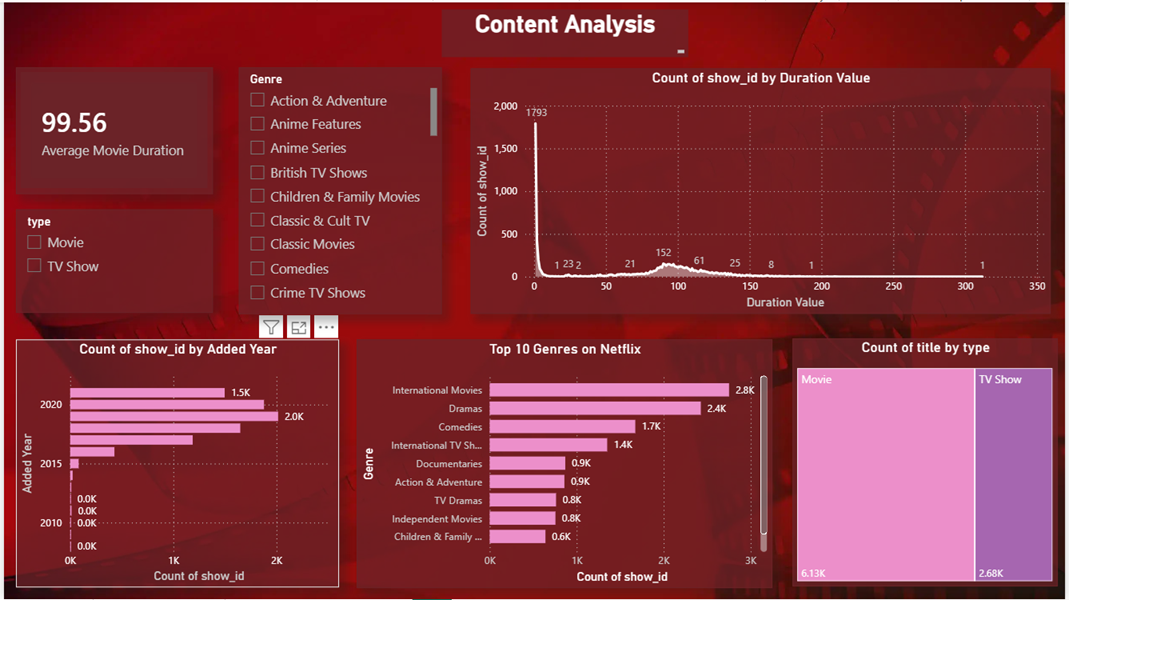

The dashboard page shown, as its layout file describes it:
{"tool":"powerbi","page":{"name":"Content Analysis","canvas":[1280,720],"ordinal":1},"visuals":[{"type":"textbox","title":"Content Analysis","box":[528.4,8.4,298,57.9],"z":0},{"type":"clusteredBarChart","fields":{"Category":["netflix_titles.Added Year"],"Y":["CountNonNull(netflix_titles.show_id)"]},"box":[14.7,406,390.1,299.6],"z":1000},{"type":"barChart","title":"Top 10 Genres on Netflix","fields":{"Category":["Netflix_Genres.Genre"],"Y":["CountNonNull(Netflix_Genres.show_id)"]},"box":[426.3,406.6,501.7,300.3],"z":2000},{"type":"cardVisual","fields":{"Data":["netflix_titles.Average Movie Duration"]},"box":[15,78.8,237.5,152.5],"z":3000},{"type":"treemap","fields":{"Group":["netflix_titles.type"],"Values":["CountNonNull(netflix_titles.title)"]},"box":[951.5,405.3,320.1,299.1],"z":4000},{"type":"areaChart","fields":{"Category":["netflix_titles.Duration Value"],"Y":["CountNonNull(netflix_titles.show_id)"]},"box":[563.4,79.6,700,296.2],"z":5000},{"type":"slicer","fields":{"Values":["Netflix_Genres.Genre"]},"box":[283.8,78.8,245,297.5],"z":6000},{"type":"slicer","fields":{"Values":["netflix_titles.type"]},"box":[15,250,237.5,125],"z":7000}]}

Visuals, with their boxes in screenshot pixels (x1, y1, x2, y2), scaled from the page's 1280x720 canvas onto the 1152x648 screenshot:
"Content Analysis" textbox: (476, 8, 744, 60)
clusteredBarChart - netflix_titles.Added Year x CountNonNull(netflix_titles.show_id): (13, 365, 364, 635)
"Top 10 Genres on Netflix" barChart: (384, 366, 835, 636)
cardVisual - netflix_titles.Average Movie Duration: (14, 71, 227, 208)
treemap - netflix_titles.type x CountNonNull(netflix_titles.title): (856, 365, 1144, 634)
areaChart - netflix_titles.Duration Value x CountNonNull(netflix_titles.show_id): (507, 72, 1137, 338)
slicer - Netflix_Genres.Genre: (255, 71, 476, 339)
slicer - netflix_titles.type: (14, 225, 227, 338)
